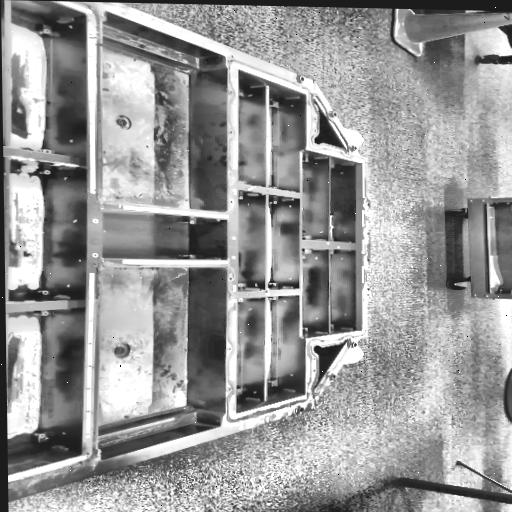b_casing: (0, 0, 369, 504)
